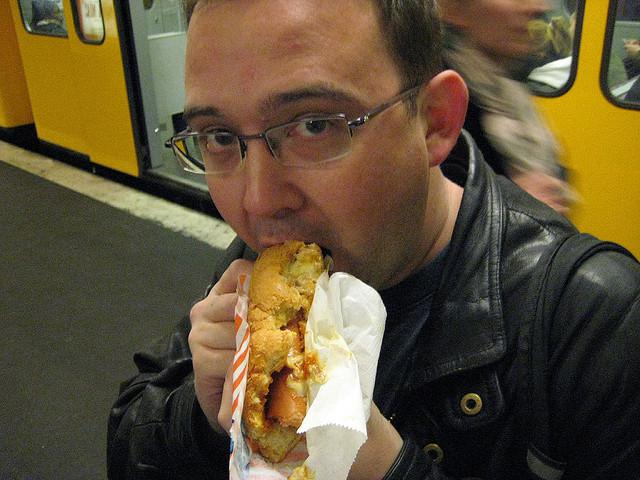Train: (0, 3, 640, 259)
